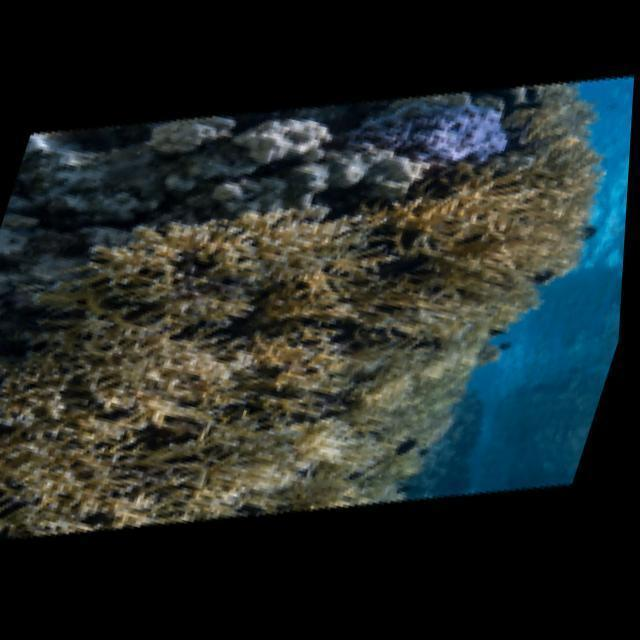Dead Coral: (47, 165, 430, 459), (342, 133, 610, 376), (0, 308, 214, 562)
